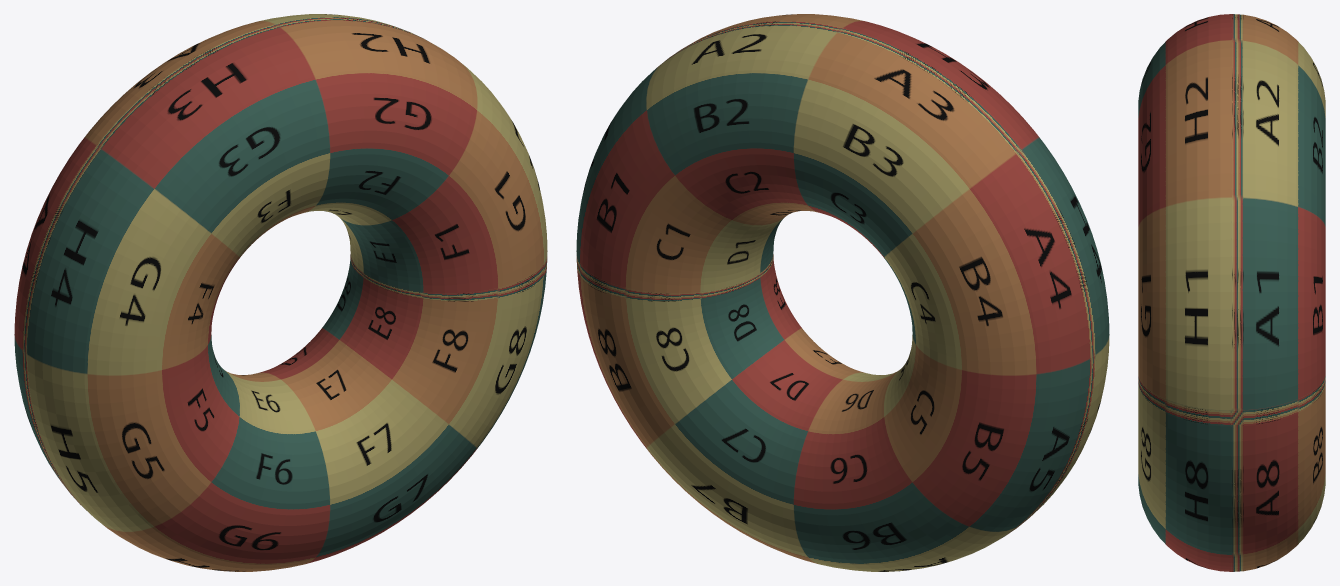
Rendered from texture_torus_R2_r6.glb.
3 views of the same model, side by side, from view 1: azimuth 30°, elevation 25°; view 2: azimuth 150°, elevation 25°; view 3: azimuth 270°, elevation 25° (orthographic). The views are drawn at different scales.
Parts seen in each view (by area): view 1: world; view 2: world; view 3: world.
Part boxes in pixels (x1,y1,x2,y2): world: (14,14,547,571); world: (576,14,1109,571); world: (1138,14,1325,571).
Size of the model in its own units: 21.78 by 21.78 by 7.32.
Materials: 1 (1 with a texture image).
